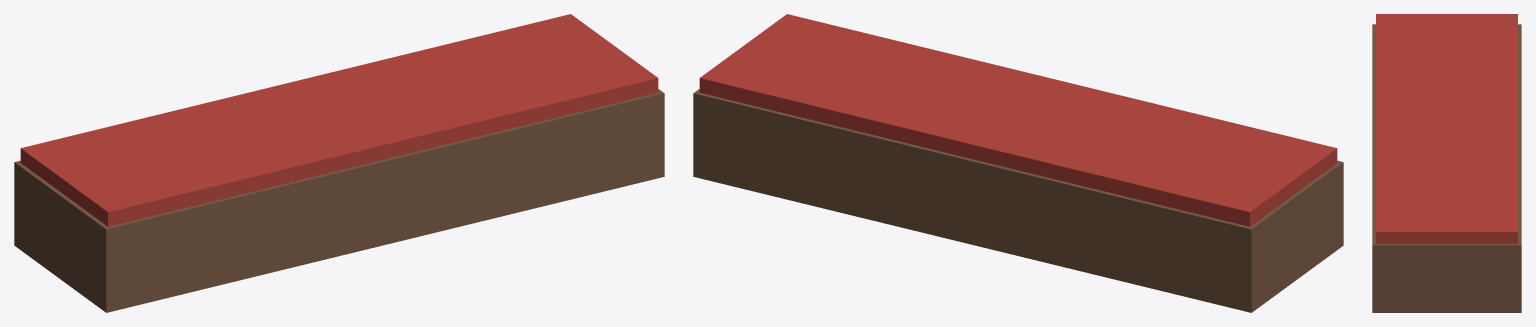
File: FD_CandyBar_01.glb
3 views of the same model, side by side, from view 1: azimuth 30°, elevation 25°; view 2: azimuth 150°, elevation 25°; view 3: azimuth 270°, elevation 25° (orthographic). The views are drawn at different scales.
Visible parts, largest first — view 1: FD_CandyBar_01; view 2: FD_CandyBar_01; view 3: FD_CandyBar_01.
Part boxes in pixels (left/top/right/bottom): FD_CandyBar_01: left=14, top=14, right=664, bottom=312; FD_CandyBar_01: left=693, top=14, right=1343, bottom=312; FD_CandyBar_01: left=1372, top=14, right=1521, bottom=312.
Size of the model in its own units: 0.14 by 0.0235 by 0.04.
1 material, 1 textured.
